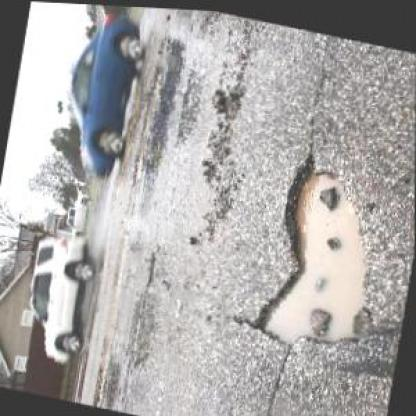pothole: (251, 146, 391, 359), (140, 33, 186, 172)
